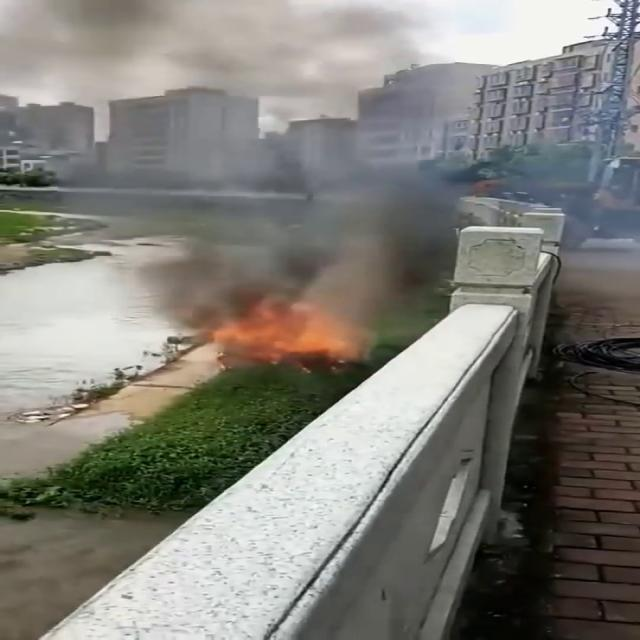Fire: (198, 296, 356, 372)
Smoke: (0, 0, 452, 316)
